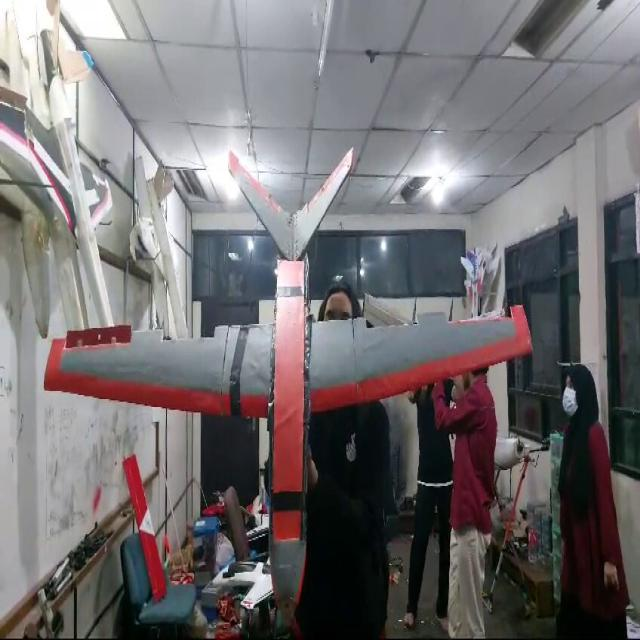plane: (43, 143, 533, 636)
